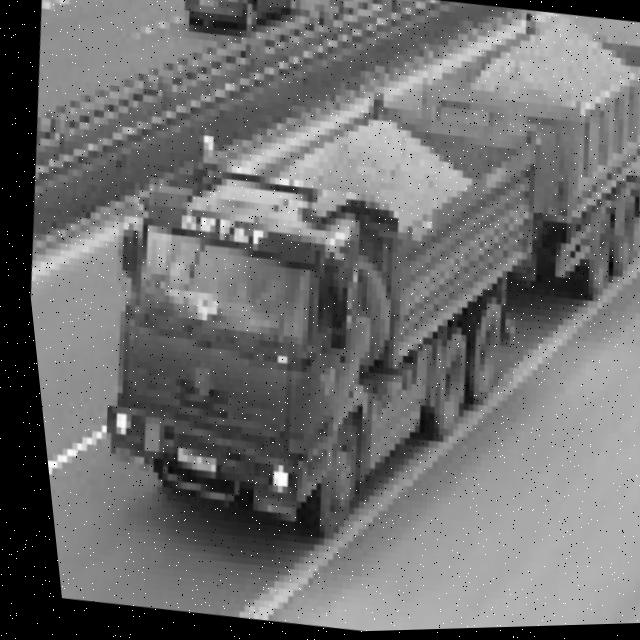truck: (51, 124, 426, 558)
